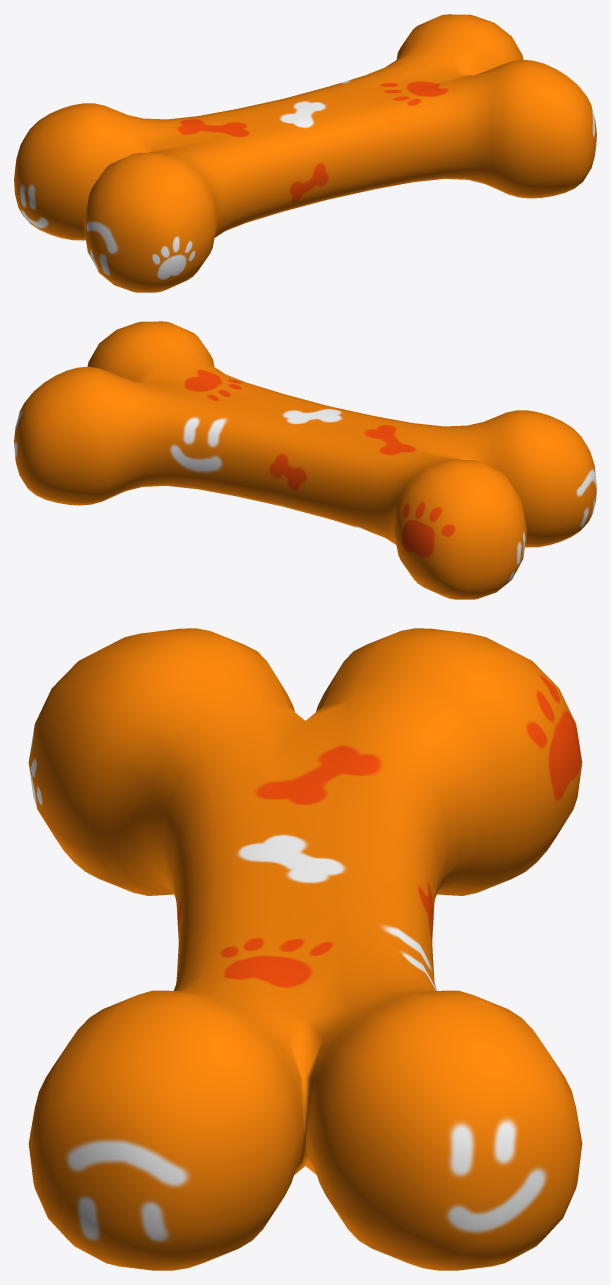
File: Bone Toy.fbx
3 renders of one model, top to bottom at view 1: azimuth 30°, elevation 25°; view 2: azimuth 150°, elevation 25°; view 3: azimuth 270°, elevation 25°, orthographic. The views are drawn at different scales.
Parts seen in each view (by area): view 1: Cube.001; view 2: Cube.001; view 3: Cube.001.
Part boxes in pixels (x1,y1,x2,y2): Cube.001: (14,14,596,292); Cube.001: (14,321,596,599); Cube.001: (28,628,582,1270).
Bounding box in the file's own units: 0.2885 × 0.0687 × 0.1389.
